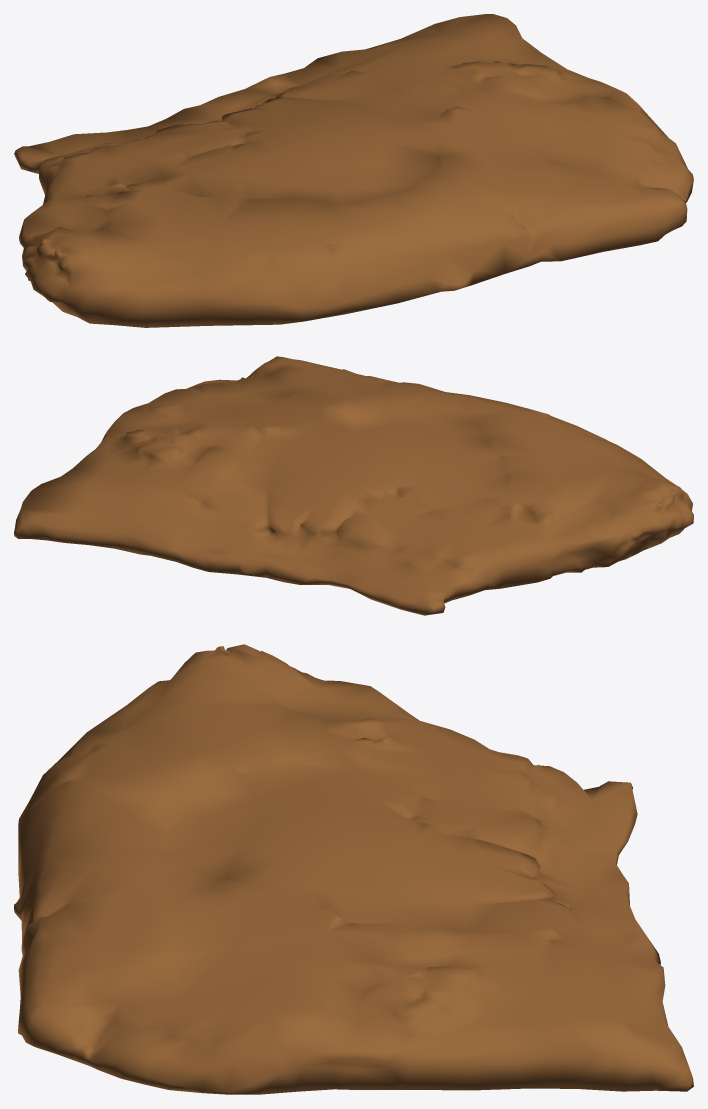
The model's file is MSH_Rocks_Boulder_37.FBX.
The picture shows the model from 3 angles, top to bottom: view 1: azimuth 30°, elevation 25°; view 2: azimuth 150°, elevation 25°; view 3: azimuth 270°, elevation 25°; orthographic projection. The views are drawn at different scales.
Parts seen in each view (by area): view 1: MESH_LOD0; view 2: MESH_LOD0; view 3: MESH_LOD0.
Boxes of the visible parts, bbox=[...] form: MESH_LOD0: bbox=[14, 14, 693, 327]; MESH_LOD0: bbox=[14, 356, 693, 615]; MESH_LOD0: bbox=[14, 644, 693, 1094].
Size of what is drawn, in the model's own units: 261 by 27.62 by 191.
